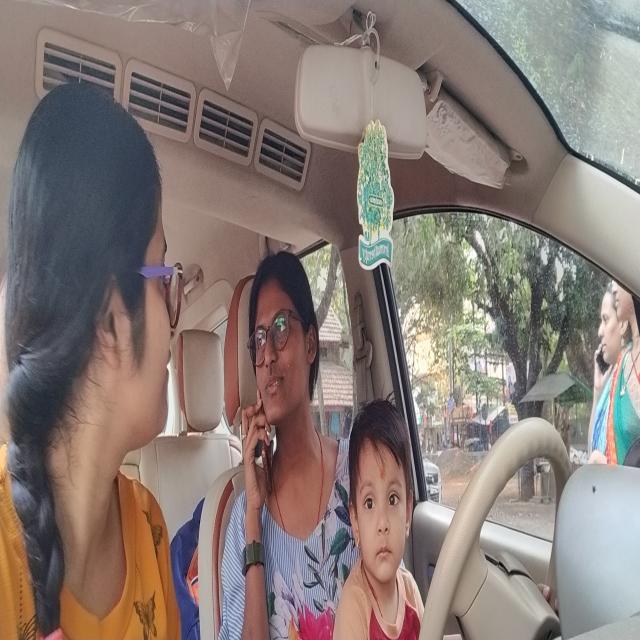child: (343, 388, 421, 588)
mobile: (260, 436, 275, 496)
person: (6, 70, 191, 509), (248, 243, 324, 449)
